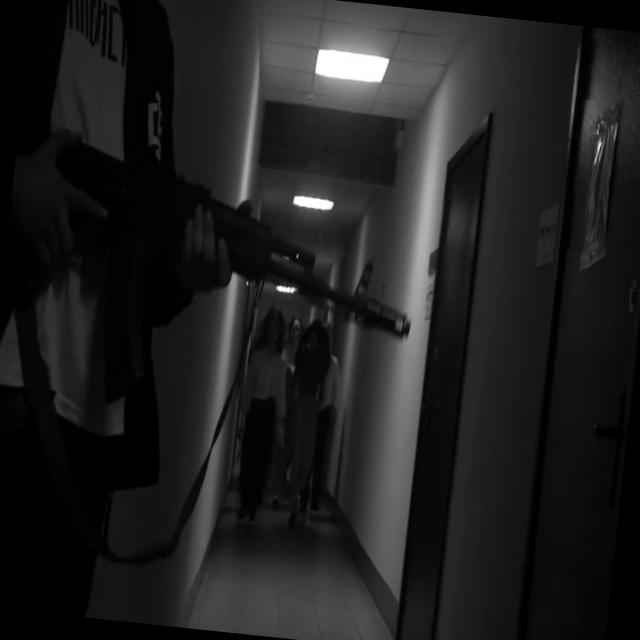gun: (2, 119, 430, 438)
